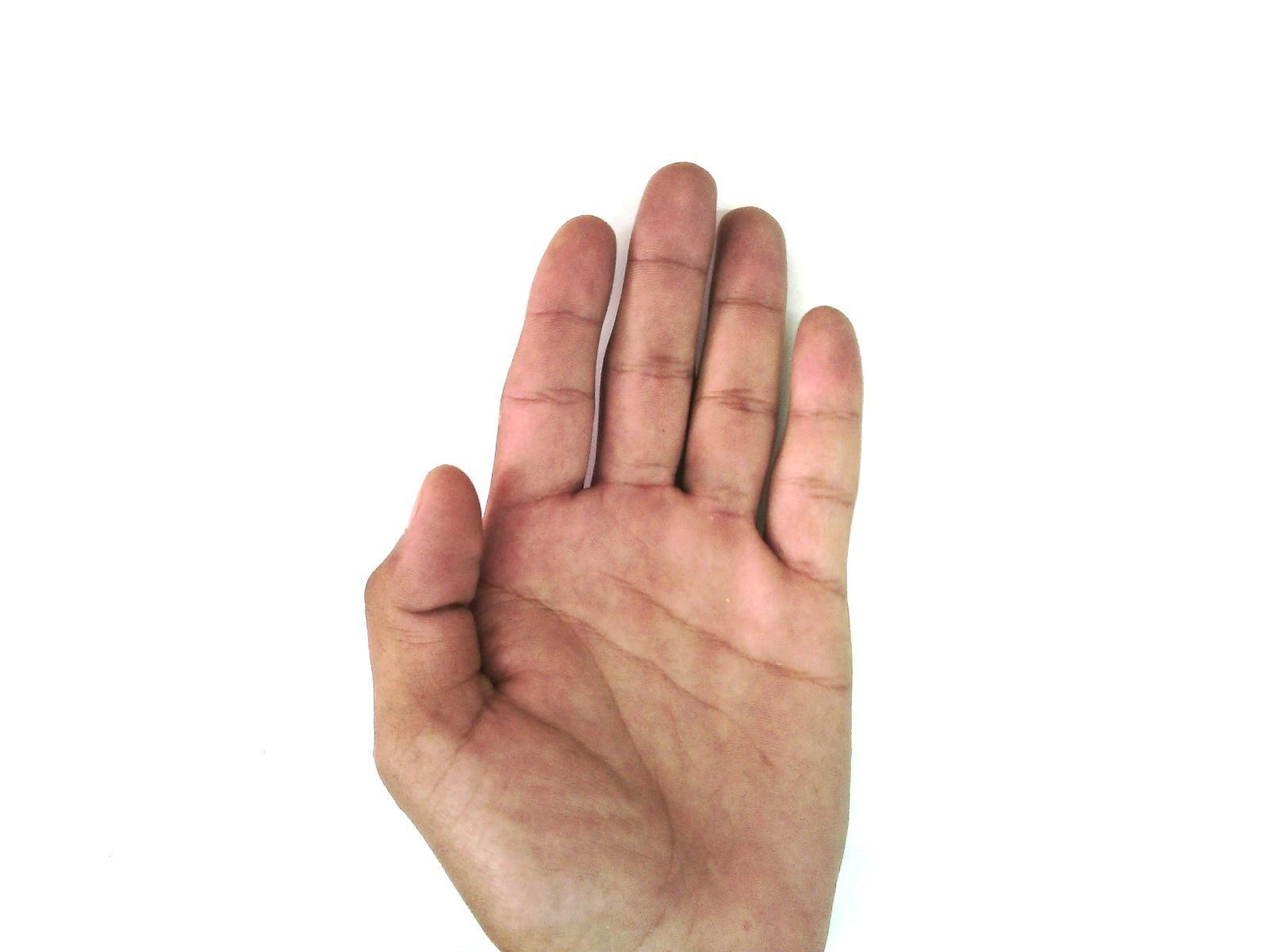open_palm: (362, 161, 868, 952)
